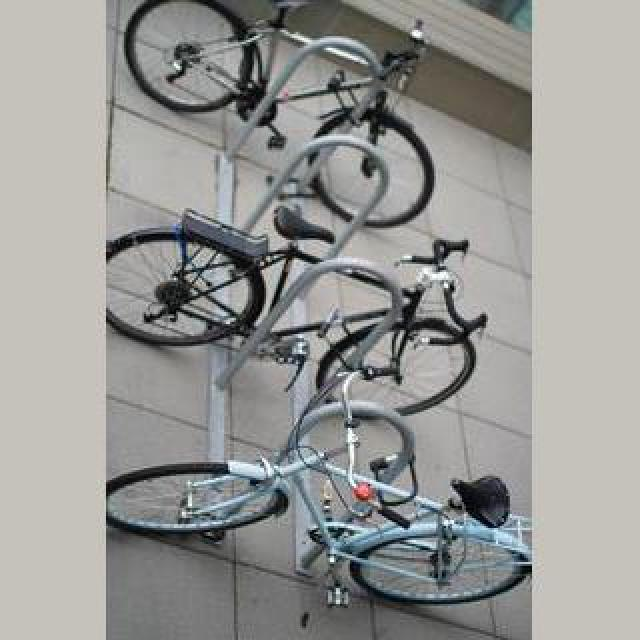Person: (106, 364, 518, 632), (106, 176, 490, 422), (120, 0, 434, 230)
